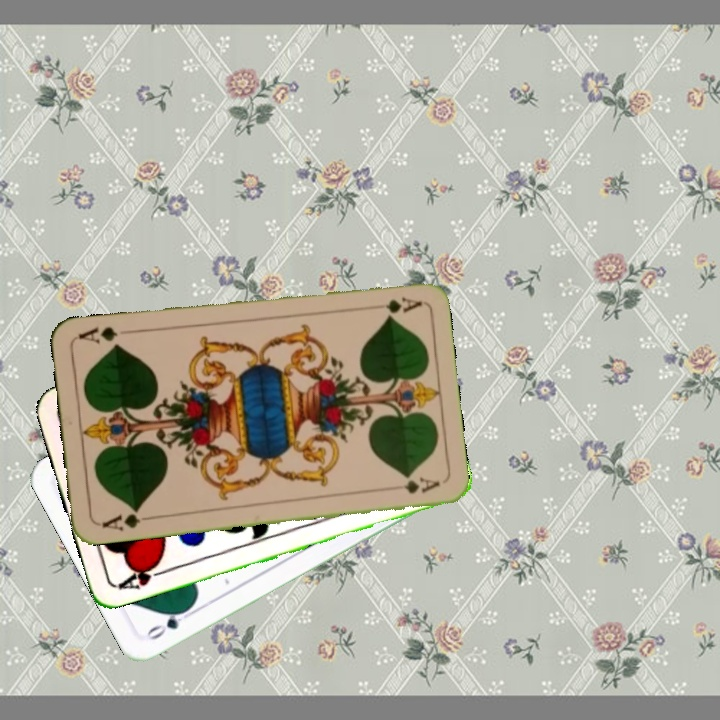GA: (96, 504, 155, 534), (382, 293, 423, 316)
GO: (141, 603, 196, 643)
HA: (113, 557, 171, 592)
